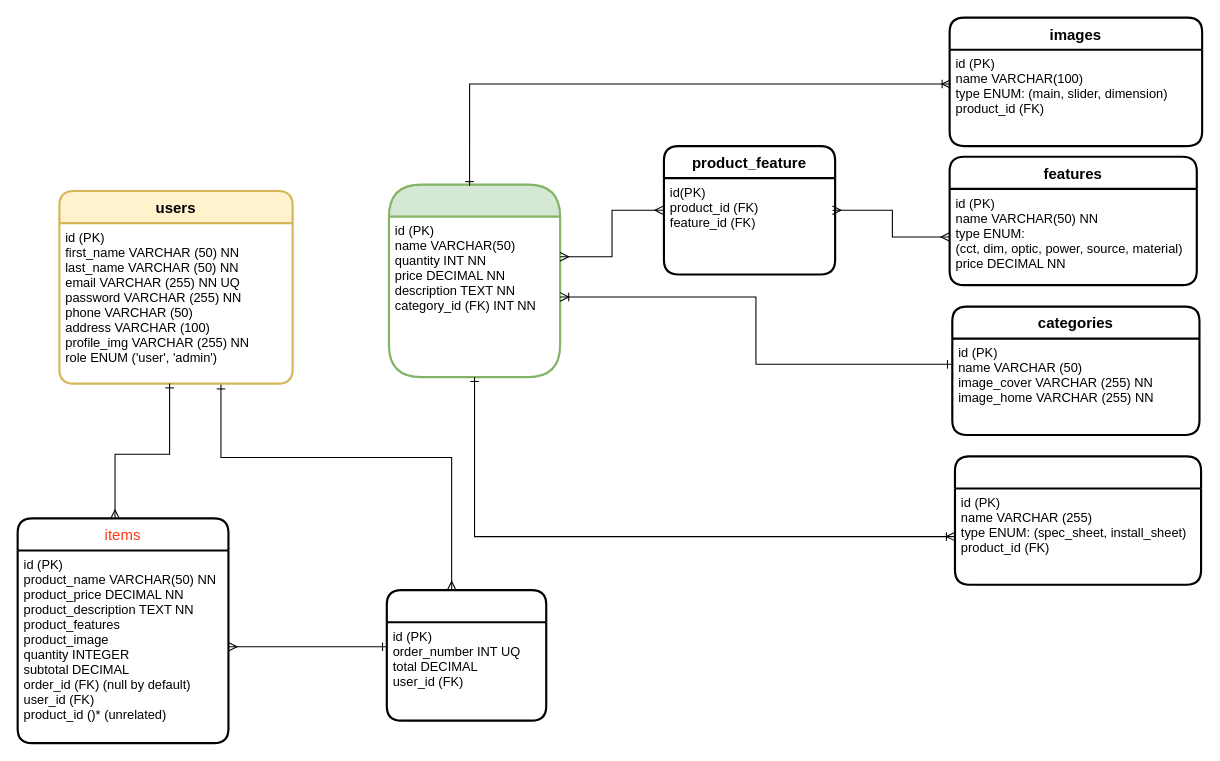
Some shapes in this 1220 by 761 pixel diagram are drawn without their labels. The shapes that lost their labels are listed below. From the top down, each one's box as (x1, y1, x2, y2) in pixels, then its label:
(387, 183, 561, 378): products
(953, 455, 1202, 585): files
(385, 588, 547, 721): orders
